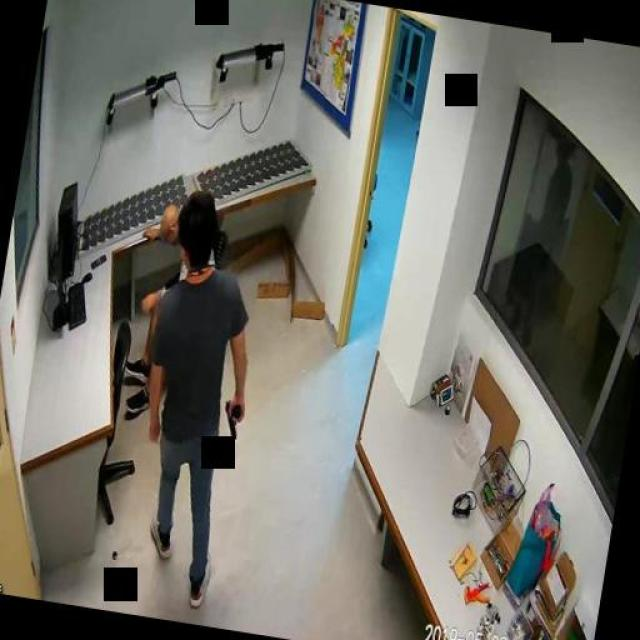gun: (219, 390, 246, 439)
